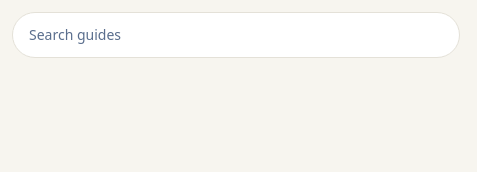
it: ResourceSearch with expanded fields › matches article body (content_markdown)
The image size is (477, 172).
Type "identifiable provider" into the search field named "Search Resource Center". click: {"x": 236, "y": 35}
box: [12,12,460,58]
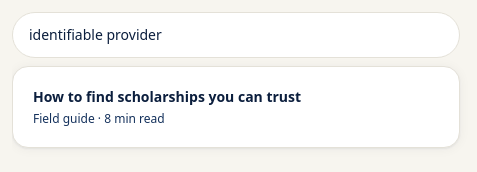
Expected: the link "How to find scholarships you can trust" is shown, [33,87,301,127]
